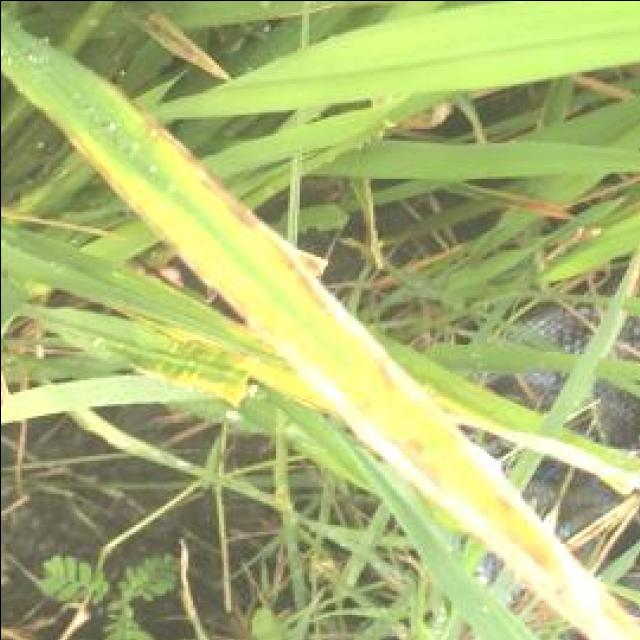Bacterial_Leaf_Blight: (237, 225, 450, 493)
